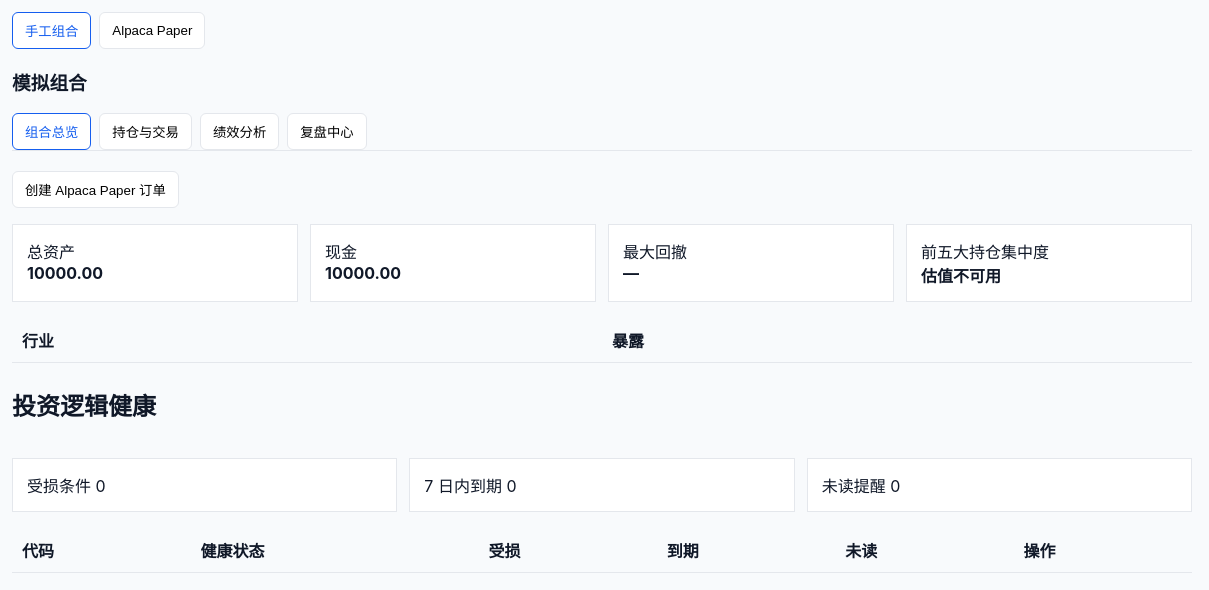
offers the explicit Alpaca Paper ticket without replacing manual ledger actions
expect the button "创建 Alpaca Paper 订单" is shown: met, box [12,171,179,208]
Click the tab "持仓与交易".
click(146, 132)  # box [99,113,192,150]
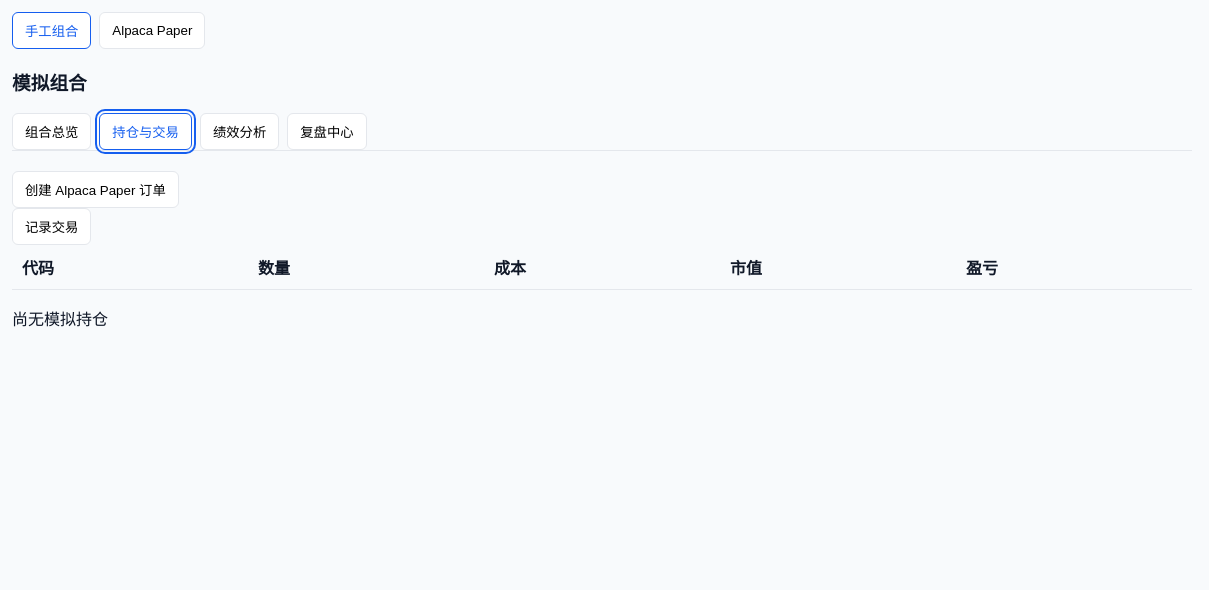
expect the button "记录交易" is shown: met, box [12,208,91,245]
